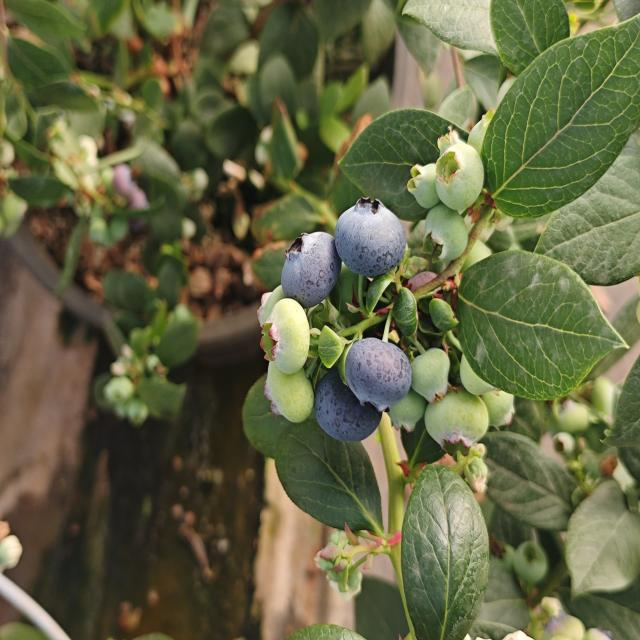ripe: (330, 200, 409, 276), (344, 330, 413, 406), (276, 228, 345, 300), (307, 380, 376, 440)
